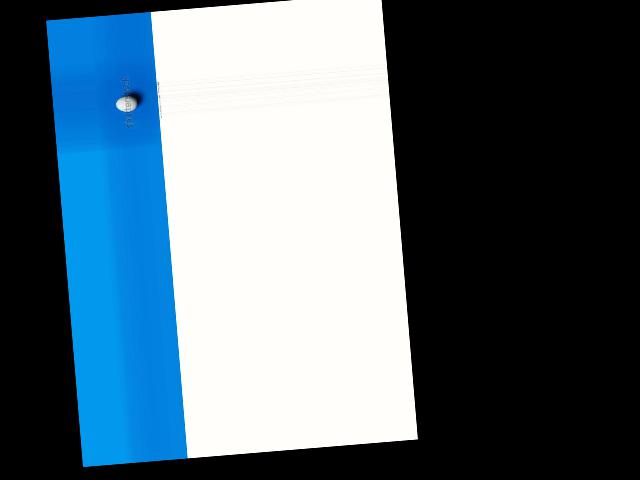egg: (115, 95, 138, 112)
